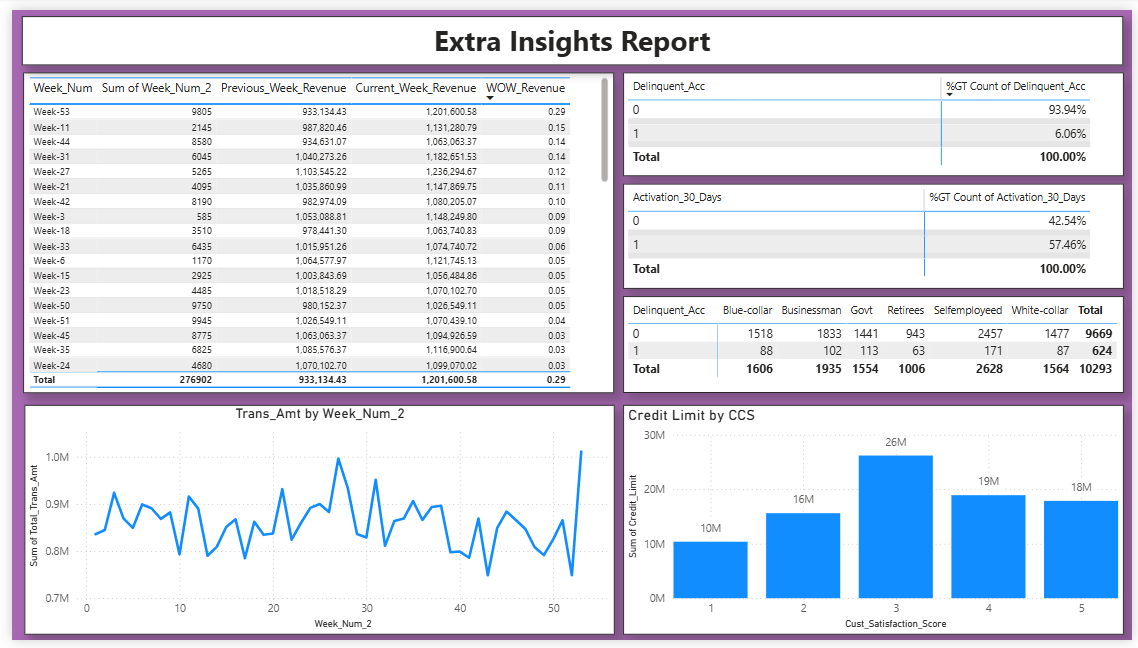

What the dashboard file says about the page in this screenshot:
{"tool":"powerbi","page":{"name":"Extra_Insights_Report","canvas":[1280,720],"ordinal":2},"visuals":[{"type":"tableEx","fields":{"Values":["CreditCard.Week_Num","Sum(CreditCard.Week_Num_2)","CreditCard.Previous_Week_Revenue","CreditCard.Current_Week_Revenue","CreditCard.WOW_Revenue"]},"box":[13,71,675,366],"z":0},{"type":"lineChart","title":"Trans_Amt by Week_Num_2","fields":{"Y":["Sum(CreditCard.Total_Trans_Amt)"],"Category":["CreditCard.Week_Num_2","CreditCard.Week_Start_Date.Variation.Date Hierarchy.Month","CreditCard.Week_Start_Date.Variation.Date Hierarchy.Day"]},"box":[14,451,674,262],"z":1000},{"type":"textbox","box":[12,7,1258,56],"z":2000},{"type":"pivotTable","fields":{"Rows":["CreditCard.Delinquent_Acc"],"Values":["Sum(CreditCard.Delinquent_Acc)"]},"box":[698,71,572,118],"z":3000},{"type":"pivotTable","fields":{"Values":["Sum(CreditCard.Activation_30_Days)"],"Rows":["CreditCard.Activation_30_Days"]},"box":[698,199,572,120],"z":4000},{"type":"pivotTable","fields":{"Rows":["CreditCard.Delinquent_Acc"],"Columns":["customer.Customer_Job"],"Values":["CountNonNull(CreditCard.Delinquent_Acc)"]},"box":[698,327,572,110],"z":5000},{"type":"lineStackedColumnComboChart","title":"Credit Limit by CCS","fields":{"Y":["Sum(CreditCard.Credit_Limit)"],"Category":["customer.Cust_Satisfaction_Score"]},"box":[698,451,572,262],"z":6000}]}

Visuals, with their boxes in screenshot pixels (x1, y1, x2, y2), scaled from the page's 1280x720 canvas onto the 1138x648 screenshot:
tableEx - CreditCard.Week_Num x Sum(CreditCard.Week_Num_2): bbox(12, 64, 612, 393)
"Trans_Amt by Week_Num_2" lineChart: bbox(12, 406, 612, 642)
textbox: bbox(11, 6, 1129, 57)
pivotTable - CreditCard.Delinquent_Acc x Sum(CreditCard.Delinquent_Acc): bbox(621, 64, 1129, 170)
pivotTable - Sum(CreditCard.Activation_30_Days) x CreditCard.Activation_30_Days: bbox(621, 179, 1129, 287)
pivotTable - CreditCard.Delinquent_Acc x customer.Customer_Job: bbox(621, 294, 1129, 393)
"Credit Limit by CCS" lineStackedColumnComboChart: bbox(621, 406, 1129, 642)
